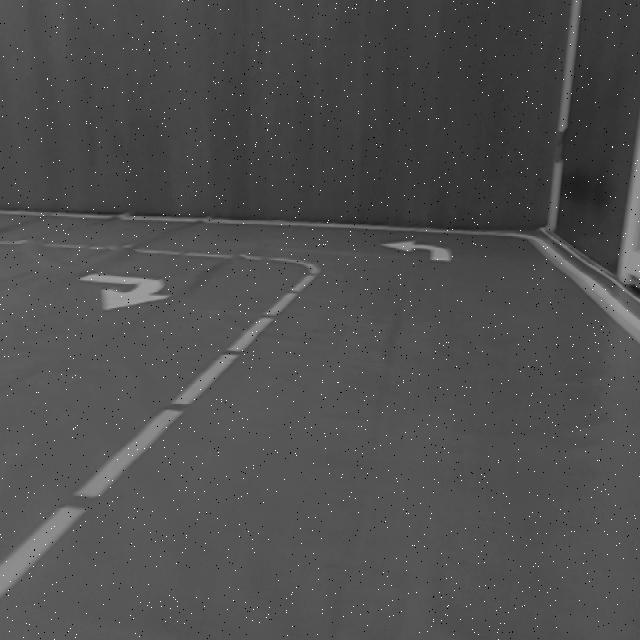left_lane: (0, 272, 320, 598)
right_lane: (532, 244, 640, 346)
